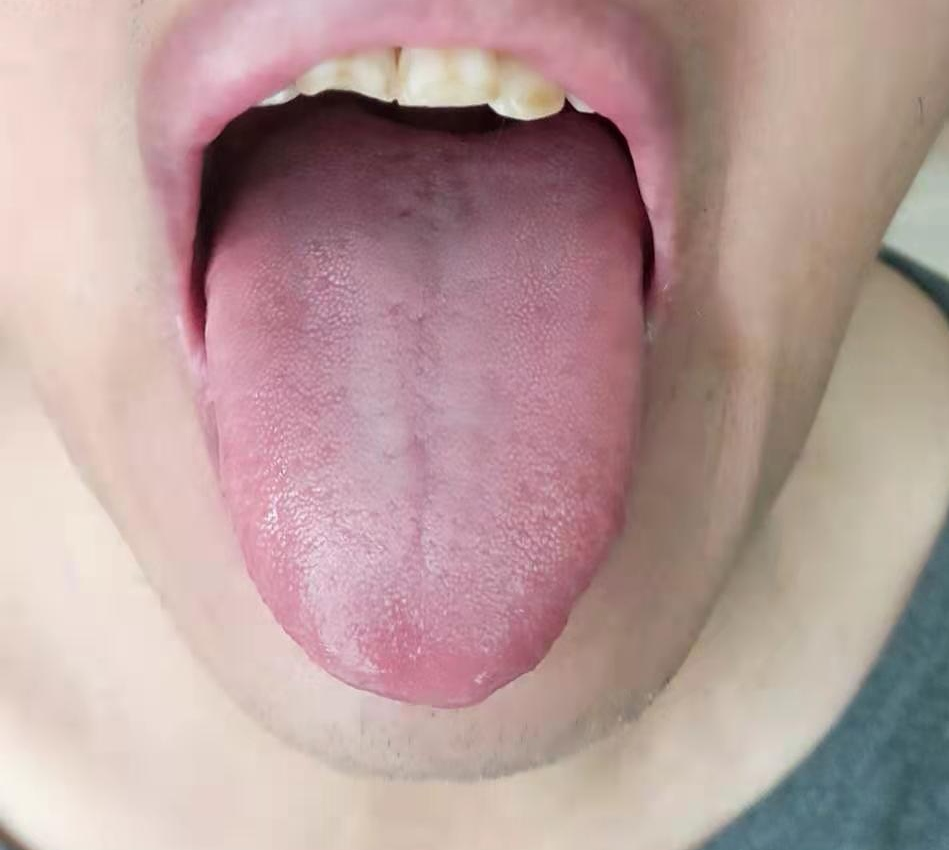baitaishe: (205, 117, 649, 709)
